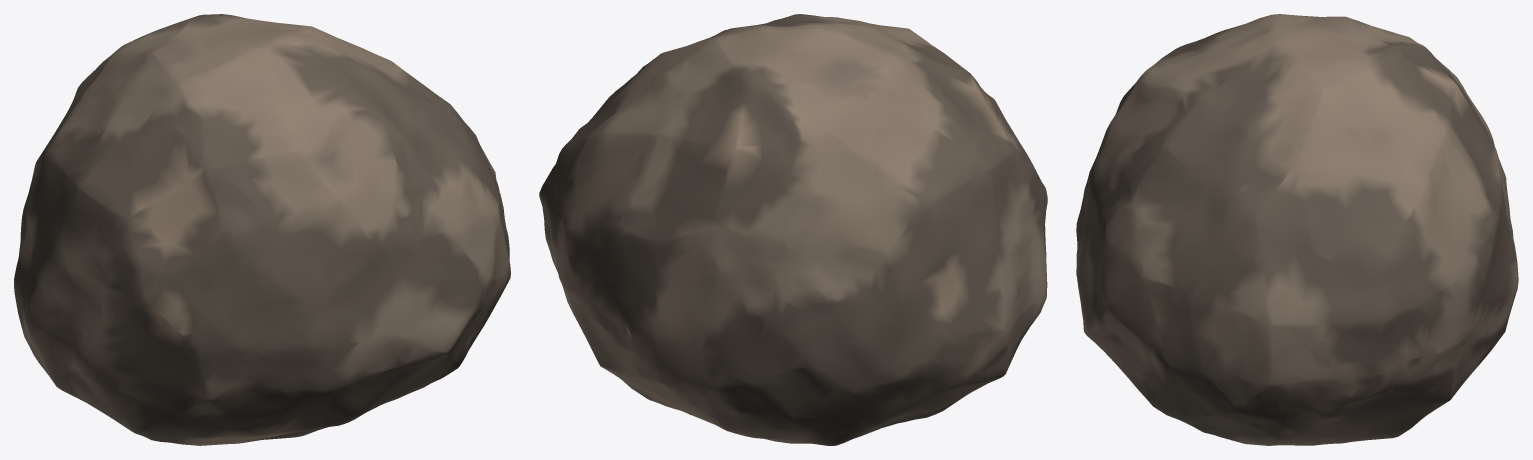
File: rock.glb
The picture shows the model from 3 angles, left to right: view 1: azimuth 30°, elevation 25°; view 2: azimuth 150°, elevation 25°; view 3: azimuth 270°, elevation 25°; orthographic projection. The views are drawn at different scales.
Parts seen in each view (by area): view 1: rock_LOD0; view 2: rock_LOD0; view 3: rock_LOD0.
Boxes of the visible parts, left/top/right/bottom form: rock_LOD0: left=14, top=14, right=510, bottom=445; rock_LOD0: left=539, top=14, right=1047, bottom=445; rock_LOD0: left=1076, top=14, right=1518, bottom=445.
Size of what is drawn, in the model's own units: 1.23 by 0.9598 by 1.07.
